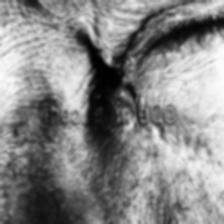Potentially Malignant Skin Tumors: (84, 41, 146, 110)
